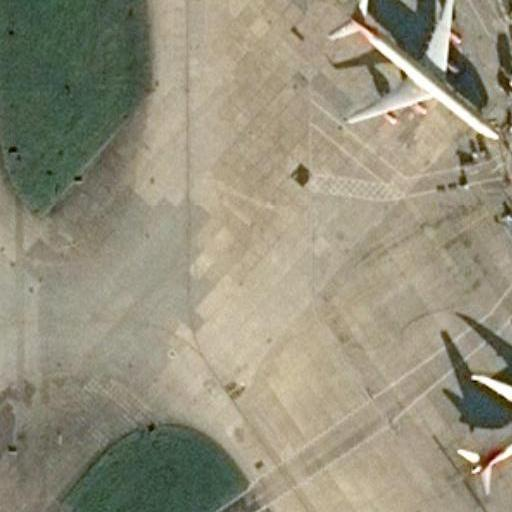Aircraft: (322, 0, 501, 143), (449, 361, 512, 504)
